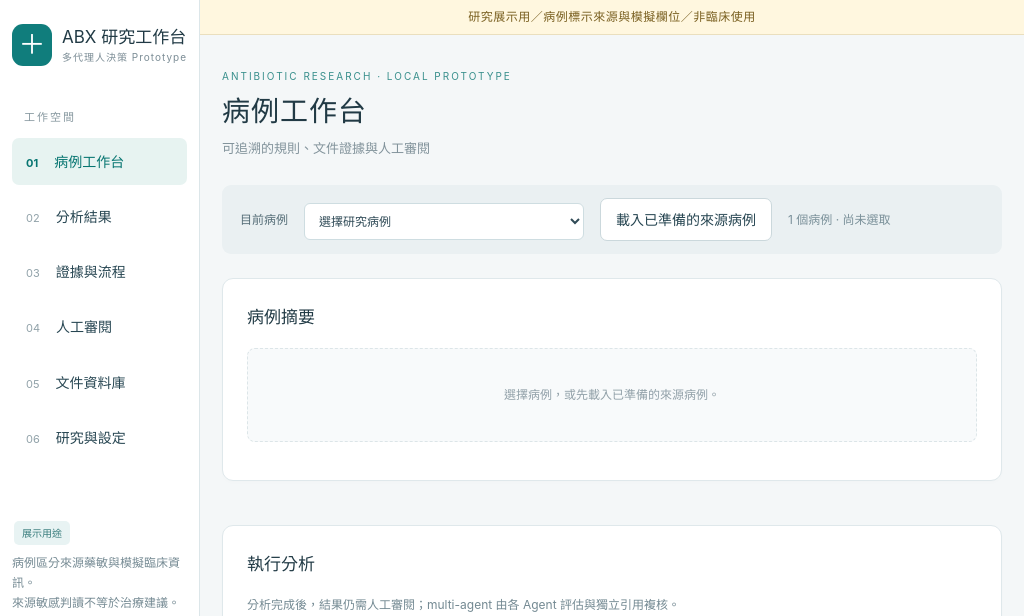
historical provenance and confirmation links use the run snapshot
Select "case-ui · revision 4" in the dropdown labelled "目前病例": (444, 222) top-left (304, 204), bottom-right (584, 240)
(page scrolled)
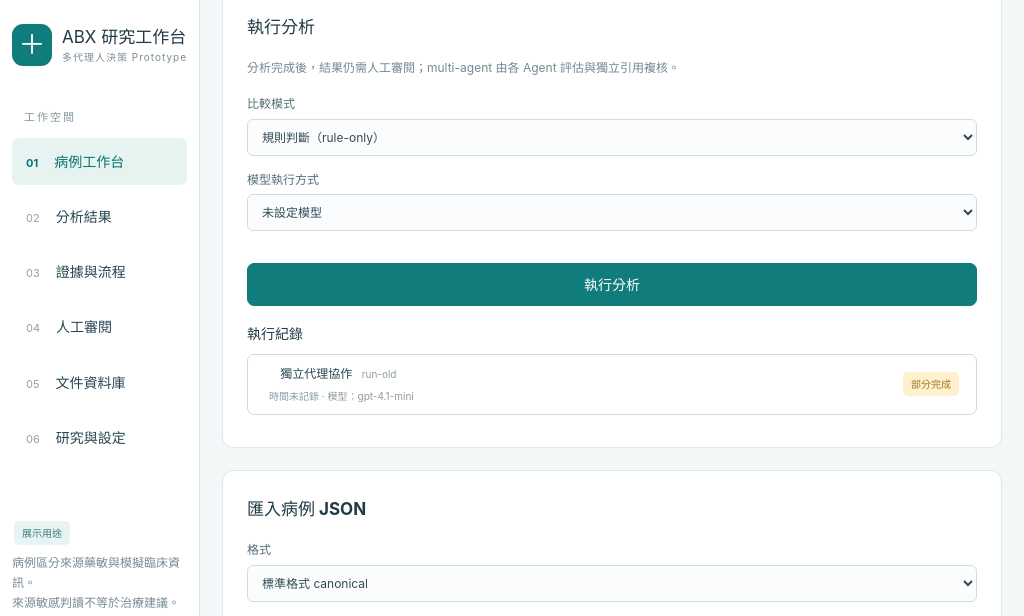
Click the button "獨立代理協作 run-old 時間未記錄 · 模型：gpt-4.1-mini 部分完成": (316, 373) top-left (247, 354), bottom-right (977, 415)
(page scrolled)
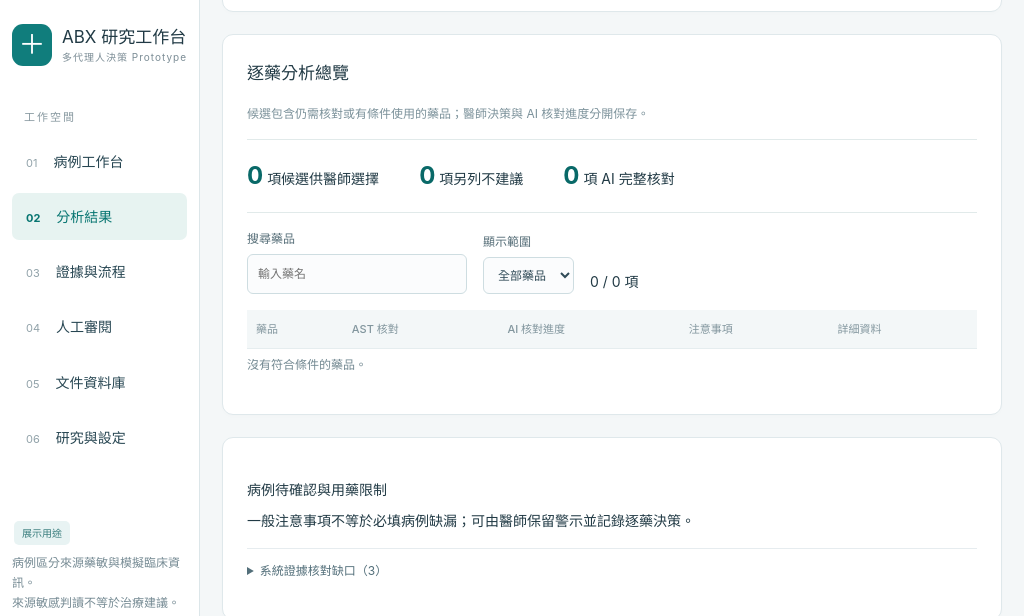
Click the heading "系統證據核對缺口（3）": (323, 570) top-left (260, 563), bottom-right (387, 578)
(page scrolled)
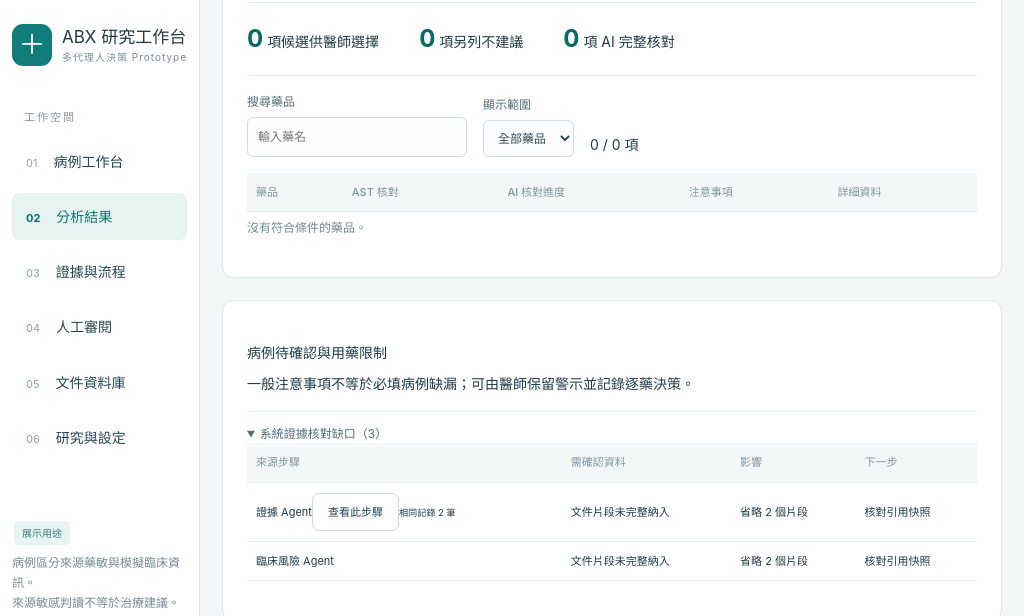
Expected: the text "文件片段未完整納入" is shown 2 times, top-left (562, 482), bottom-right (731, 541); top-left (562, 541), bottom-right (731, 580)
Expected: the text "相同記錄 2 筆" is shown, top-left (399, 507), bottom-right (456, 518)
Expected: the text "臨床風險 Agent" is shown, top-left (247, 541), bottom-right (562, 580)
Click the button "查看此步驟": (356, 512) top-left (312, 493), bottom-right (399, 531)
(page scrolled)
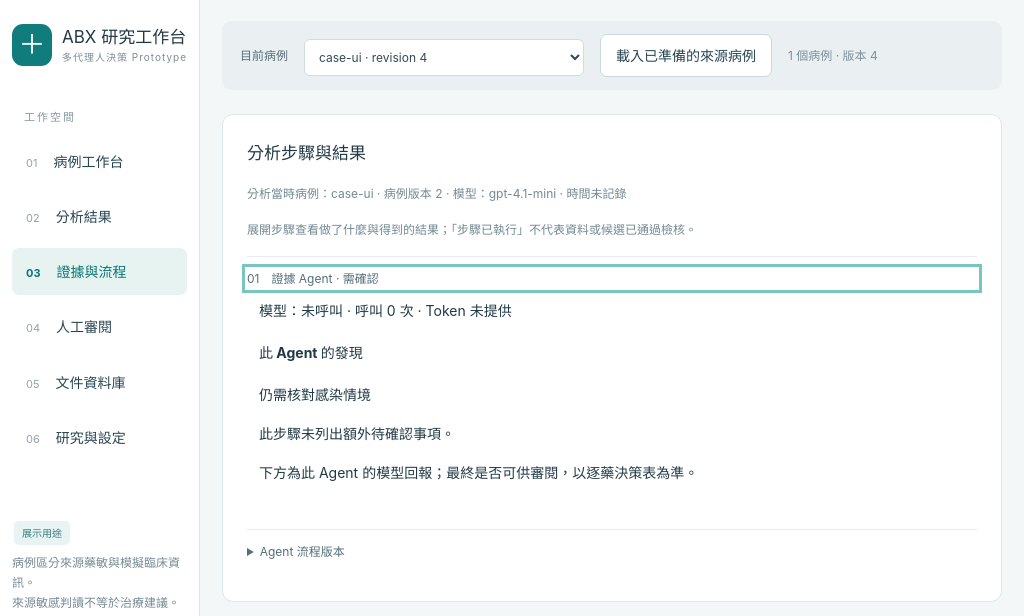
Expected: the text "仍需核對感染情境" is shown, top-left (259, 386), bottom-right (371, 403)
